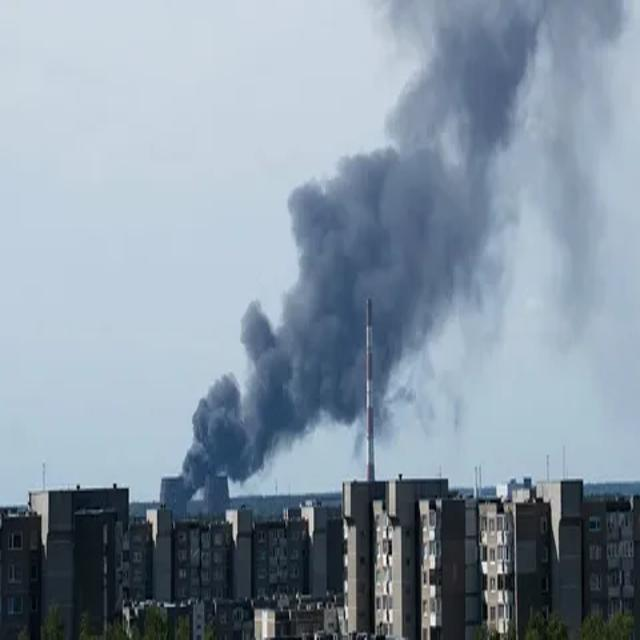Smoke: (177, 0, 640, 491)
